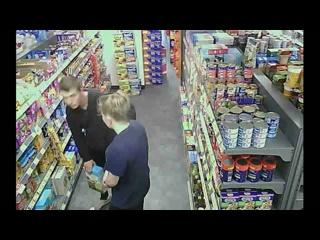shoplifting: (86, 90, 151, 210), (58, 75, 116, 172)
